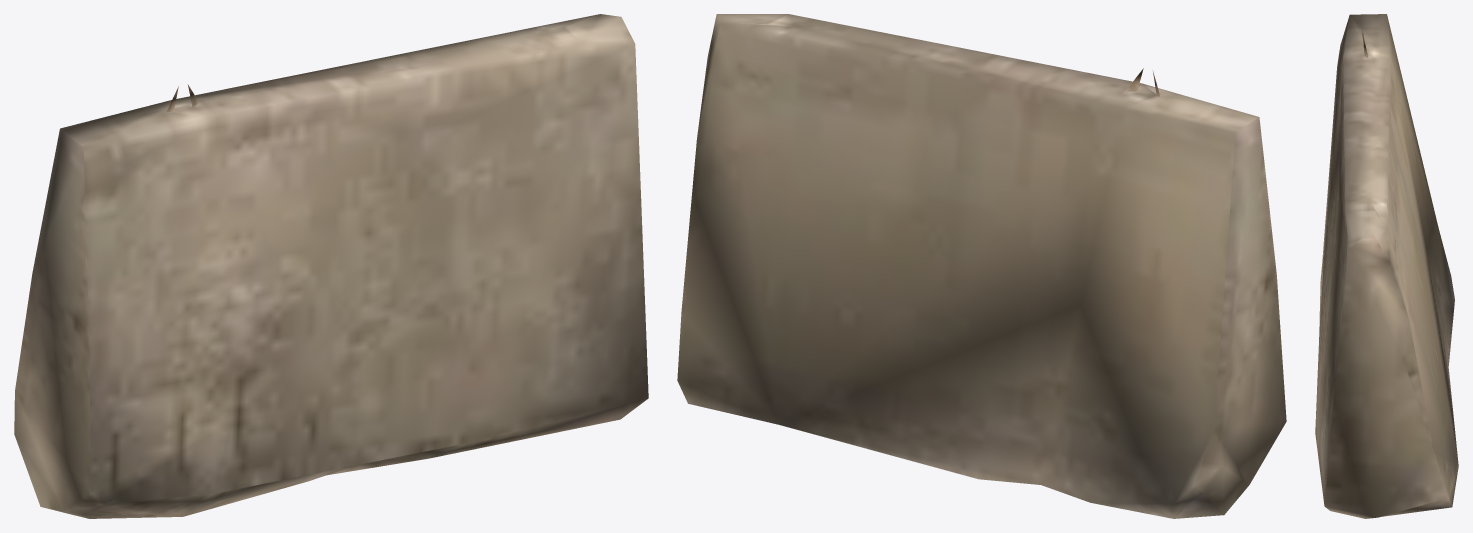
File: concrete_road_barrier_02_lod.glb
3 renders of one model, left to right at view 1: azimuth 30°, elevation 25°; view 2: azimuth 150°, elevation 25°; view 3: azimuth 270°, elevation 25°, orthographic. The views are drawn at different scales.
Visible parts, largest first — view 1: concrete_road_barrier_02; view 2: concrete_road_barrier_02; view 3: concrete_road_barrier_02.
Boxes of the visible parts, x1=… form: concrete_road_barrier_02: x1=14, y1=14, x2=648, y2=518; concrete_road_barrier_02: x1=677, y1=14, x2=1286, y2=518; concrete_road_barrier_02: x1=1315, y1=14, x2=1458, y2=518.
Bounding box in the file's own units: 1.55 × 1.09 × 0.4371.
1 material, 1 textured.
